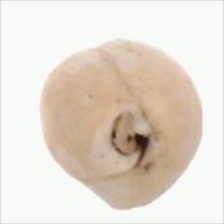L3: (111, 106, 158, 174)
L4: (40, 38, 204, 210)
